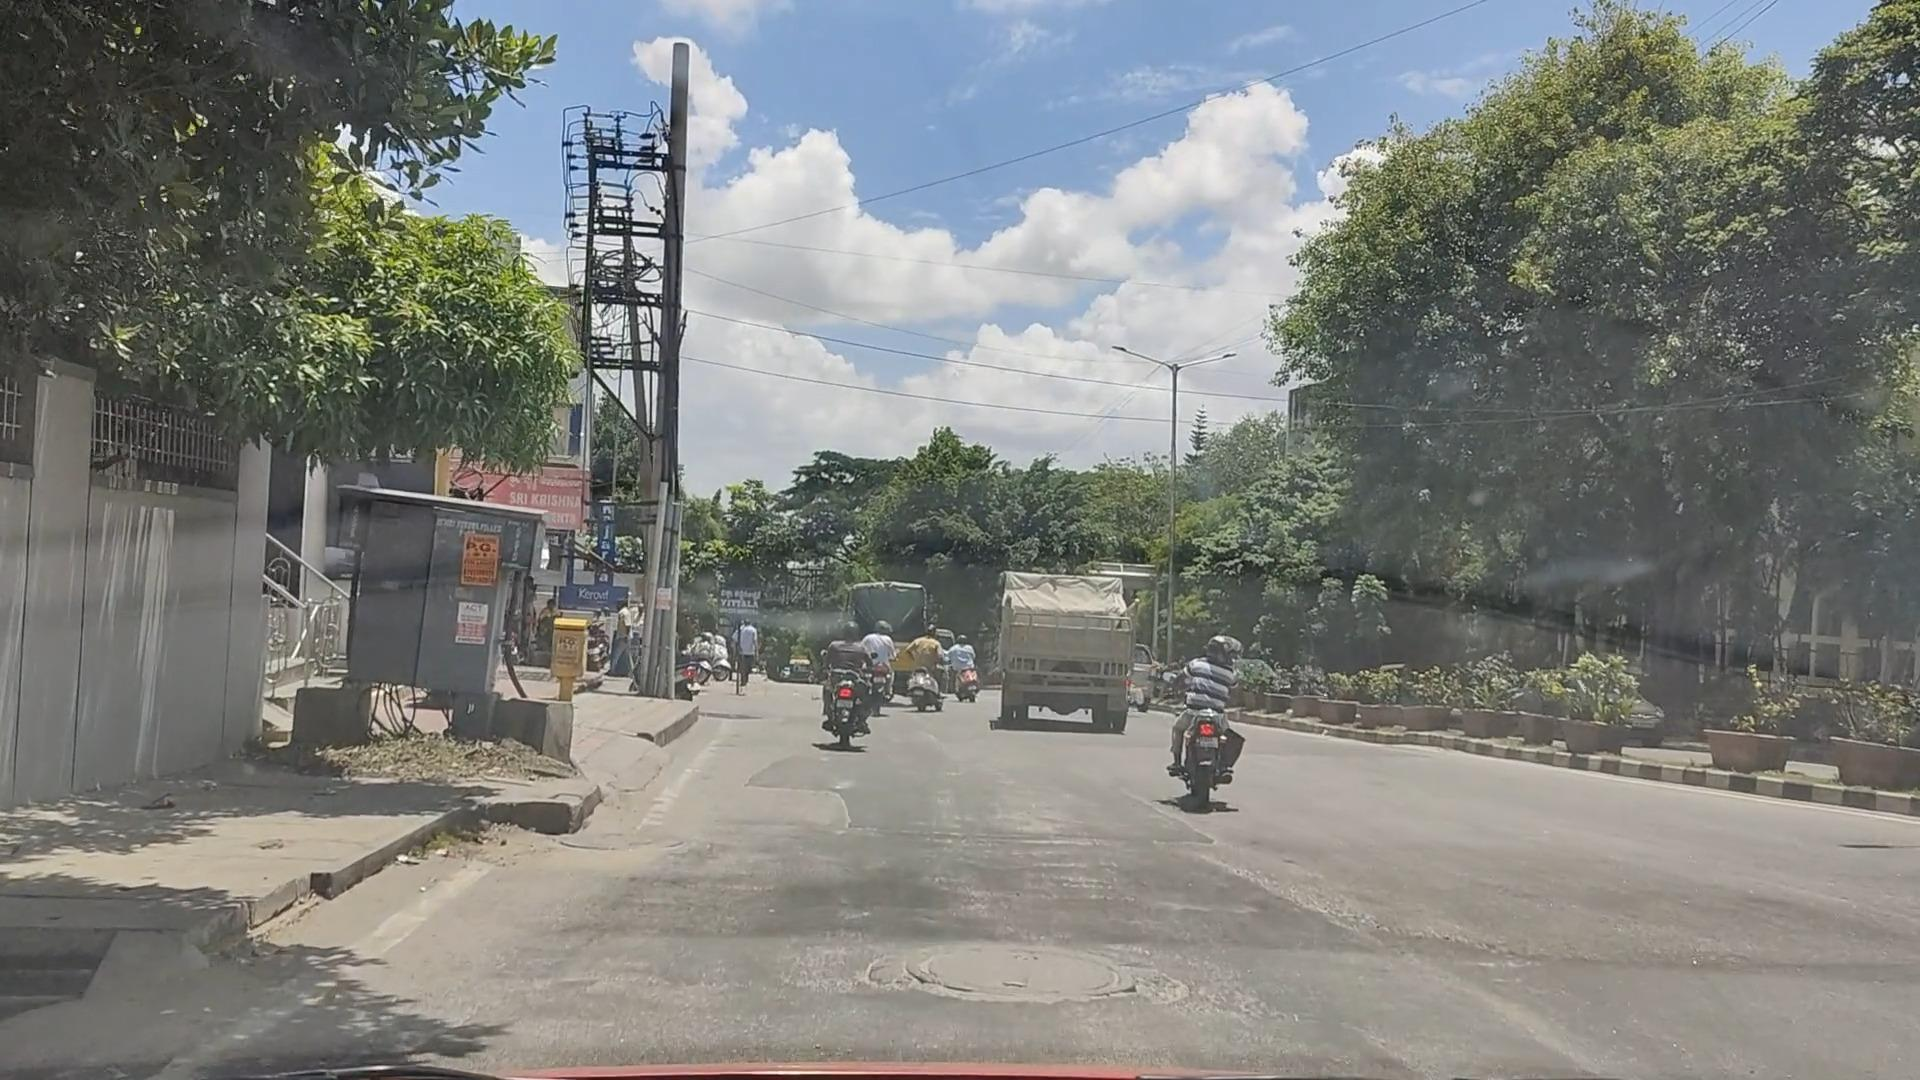HMV: (987, 574, 1151, 748), (849, 585, 948, 718)
RoadDamages: (863, 931, 1169, 1027), (559, 827, 730, 896)
